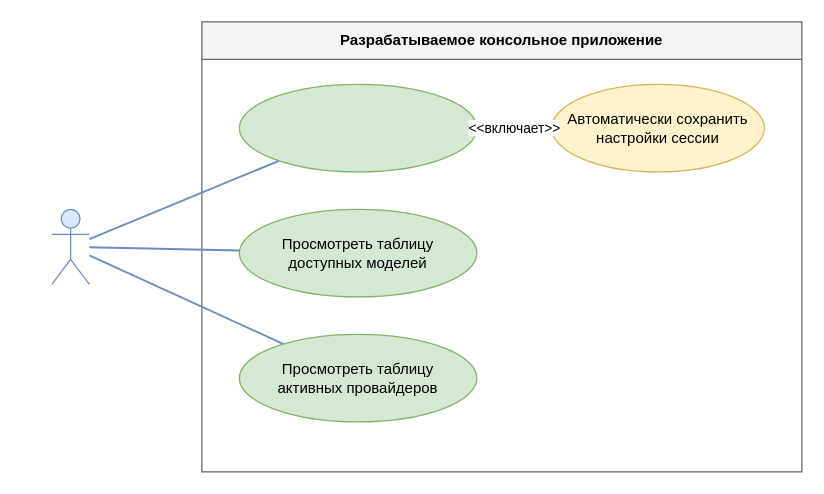
Image size: 824x494. Some labels were removed from this diagram. Each missing label, with the centre of its shape:
Выполнить текстовый запрос к искусственному интеллекту: (357,127)
Пользователь: (70,246)
